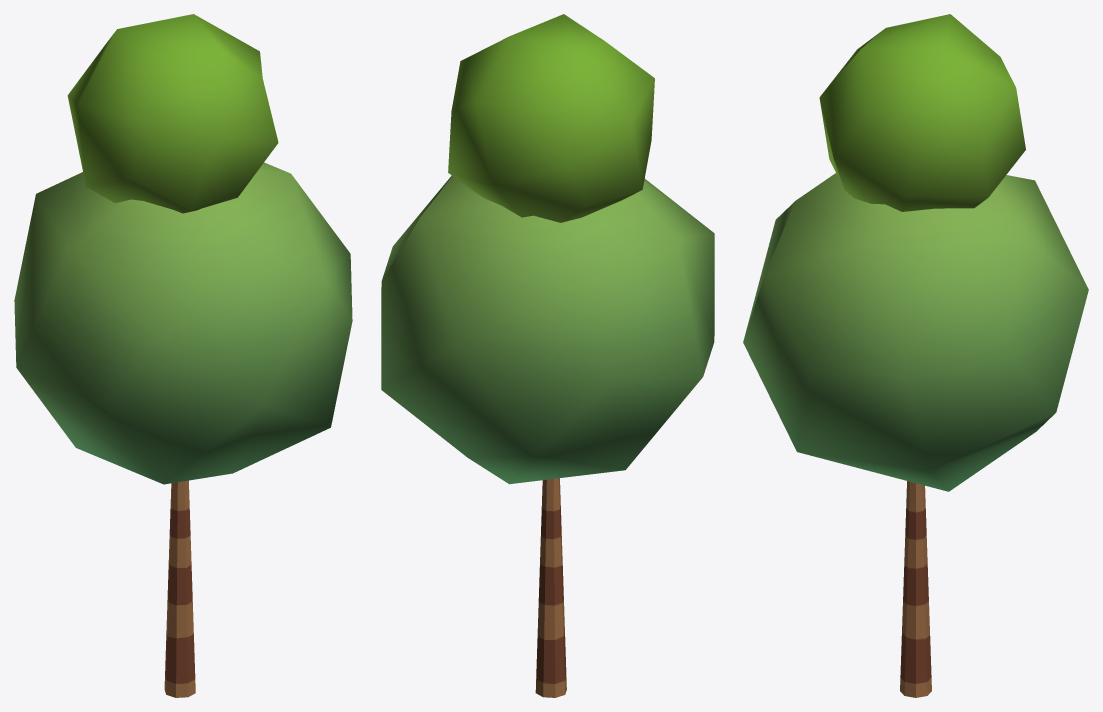
File: Trees_RoundTree3.fbx
The picture shows the model from 3 angles, left to right: view 1: azimuth 30°, elevation 25°; view 2: azimuth 150°, elevation 25°; view 3: azimuth 270°, elevation 25°; orthographic projection.
Visible parts, largest first — view 1: RoundTree3; view 2: RoundTree3; view 3: RoundTree3.
Boxes of the visible parts, <box> form: RoundTree3: <box>14,14,352,697</box>; RoundTree3: <box>381,14,714,697</box>; RoundTree3: <box>743,14,1088,697</box>.
Bounding box in the file's own units: 205 × 400 × 191.
Materials: 1 (1 with a texture image).
